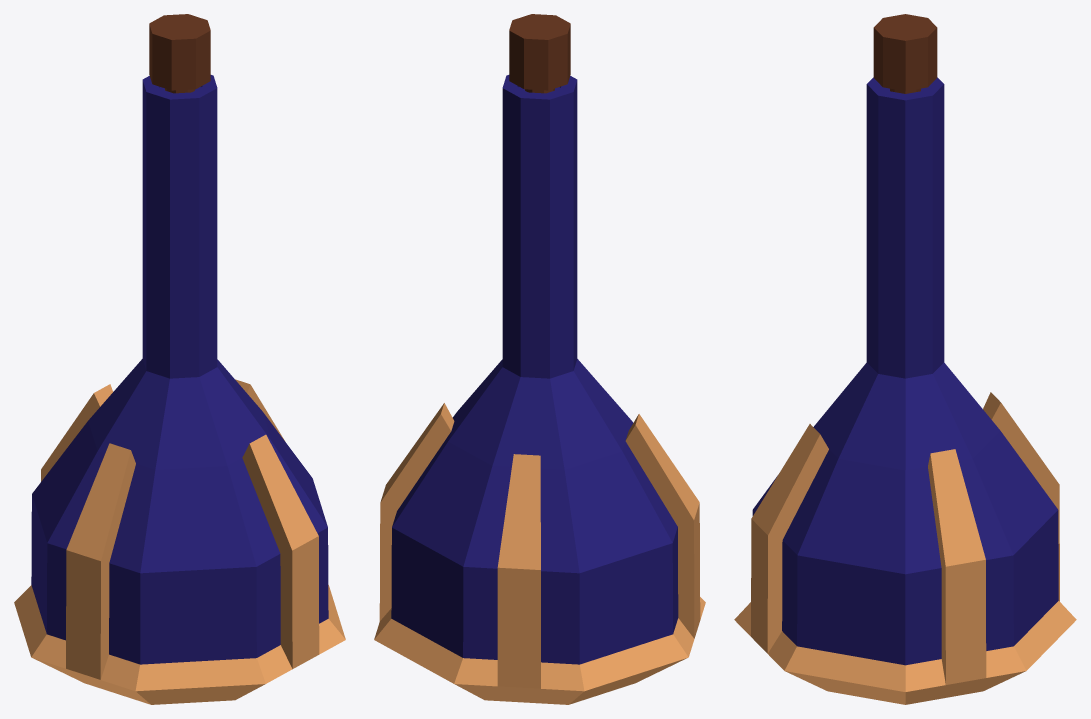
The model's file is Crypt_Potion.glb.
3 views of the same model, side by side, from view 1: azimuth 30°, elevation 25°; view 2: azimuth 150°, elevation 25°; view 3: azimuth 270°, elevation 25° (orthographic).
Visible parts, largest first — view 1: Potion; view 2: Potion; view 3: Potion.
Boxes of the visible parts, left/top/right/bottom form: Potion: left=14, top=14, right=345, bottom=704; Potion: left=374, top=14, right=705, bottom=704; Potion: left=734, top=14, right=1076, bottom=704.
Bounding box in the file's own units: 0.5738 × 1.17 × 0.5738.
